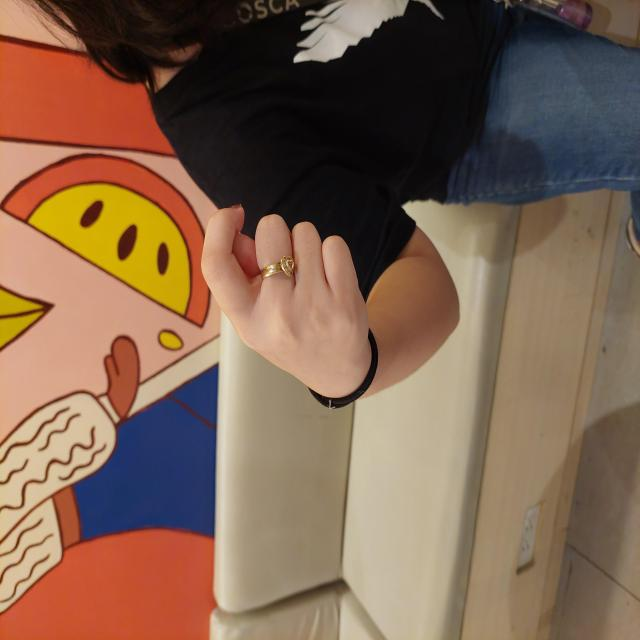T: (238, 198, 439, 371)
